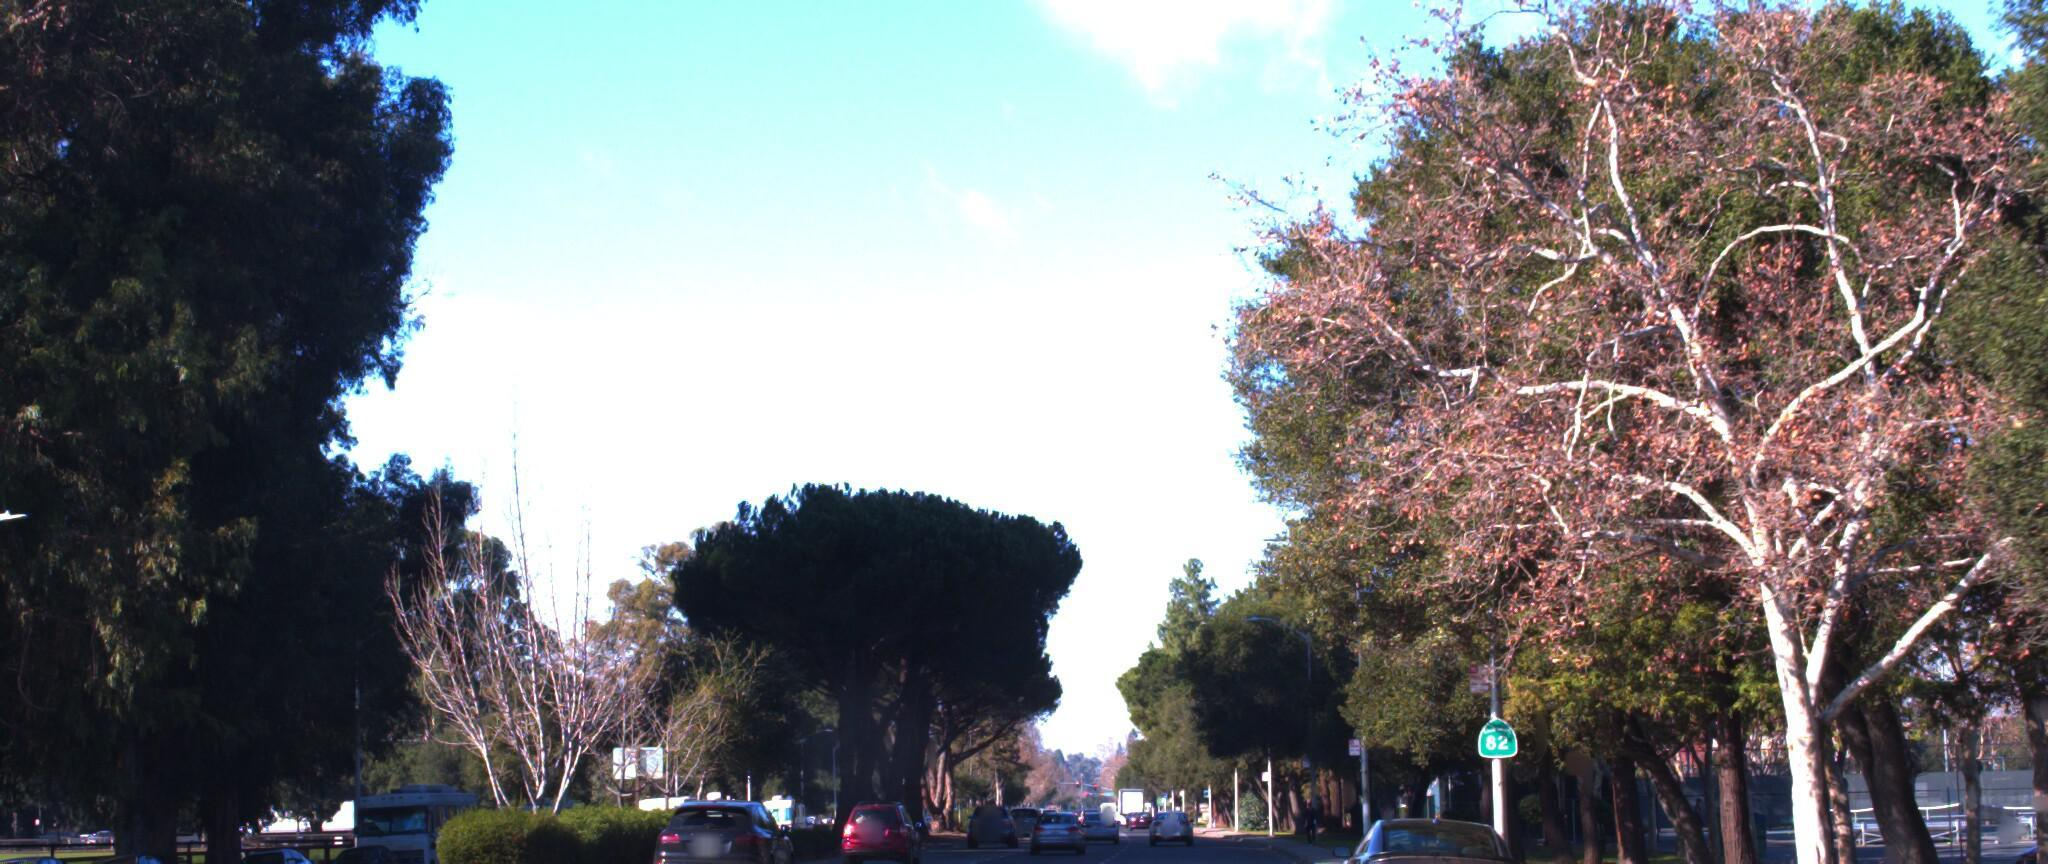car: (1313, 787, 1535, 864), (645, 777, 792, 864), (828, 786, 921, 855)
